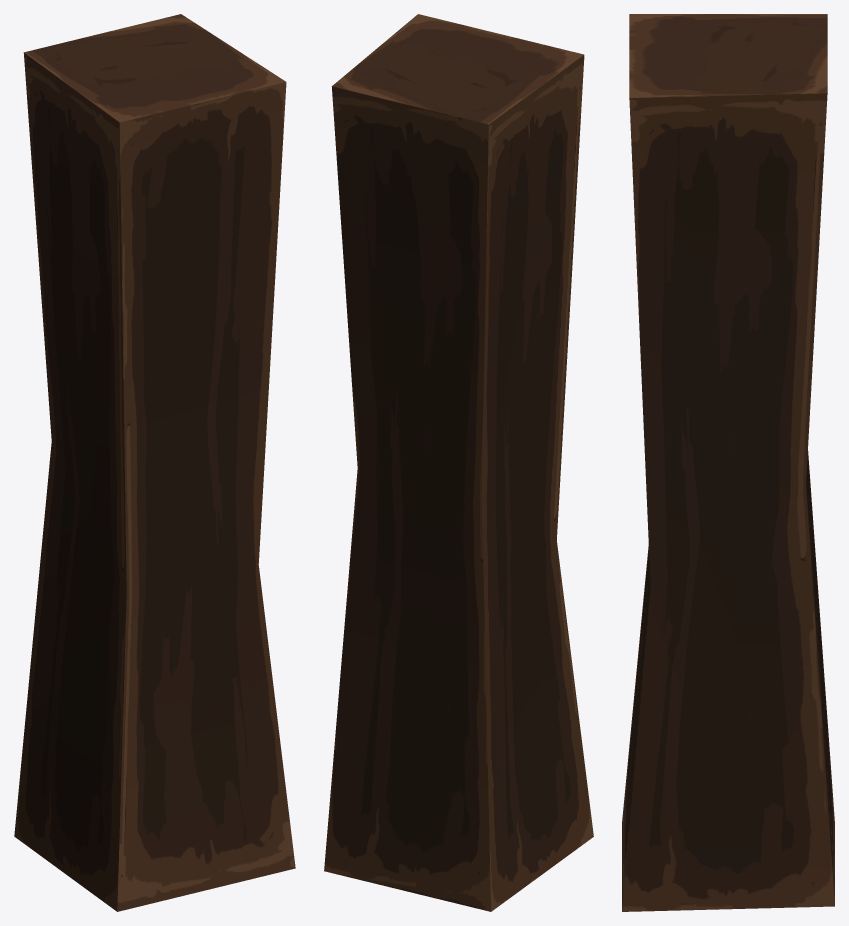
The model's file is MOD_Column_01_med_2.fbx.
3 renders of one model, left to right at view 1: azimuth 30°, elevation 25°; view 2: azimuth 150°, elevation 25°; view 3: azimuth 270°, elevation 25°, orthographic. The views are drawn at different scales.
Visible parts, largest first — view 1: MOD_Column_01_med_2; view 2: MOD_Column_01_med_2; view 3: MOD_Column_01_med_2.
Part boxes in pixels (left/top/right/bottom): MOD_Column_01_med_2: left=14, top=14, right=295, bottom=911; MOD_Column_01_med_2: left=324, top=14, right=593, bottom=911; MOD_Column_01_med_2: left=622, top=14, right=834, bottom=911.
Size of the model in its own units: 92.69 by 390 by 92.75.
